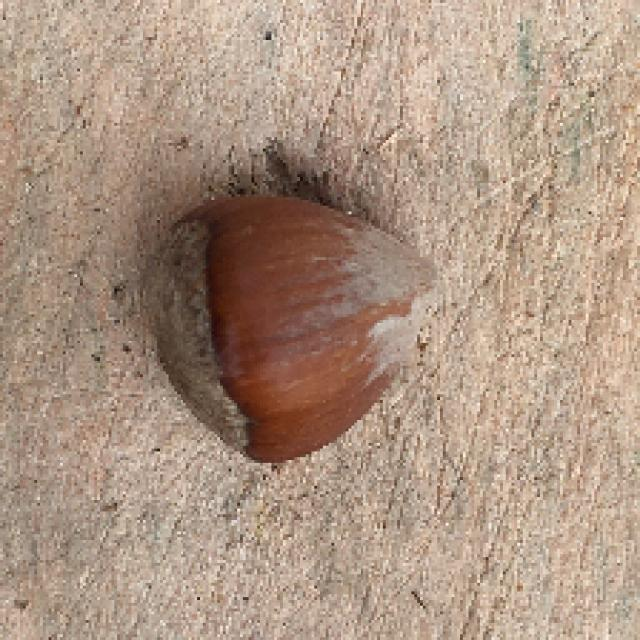qualityHazelnut: (144, 192, 445, 474)
